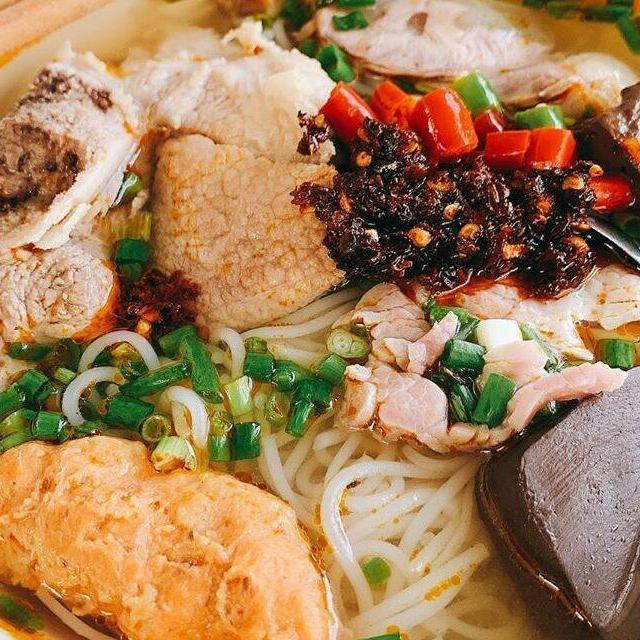bun: (228, 273, 548, 640), (56, 319, 254, 476)
bun bo: (0, 0, 640, 640)
thit bo: (326, 240, 640, 463)
thit heo: (130, 134, 362, 345), (0, 220, 128, 423)
